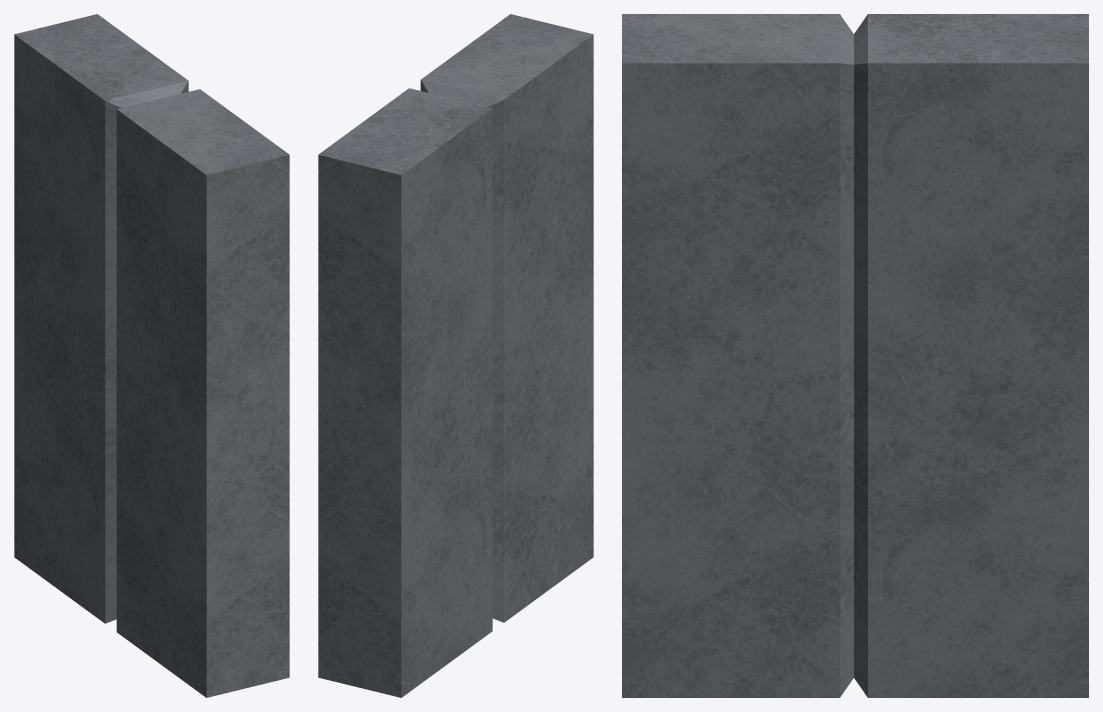
Rendered from wall_b.fbx.
3 views of the same model, side by side, from view 1: azimuth 30°, elevation 25°; view 2: azimuth 150°, elevation 25°; view 3: azimuth 270°, elevation 25° (orthographic). The views are drawn at different scales.
Parts seen in each view (by area): view 1: Cube; view 2: Cube; view 3: Cube.
Boxes of the visible parts, <box> form: Cube: <box>14,14,289,697</box>; Cube: <box>318,14,593,697</box>; Cube: <box>622,14,1088,697</box>.
Bounding box in the file's own units: 1 × 6 × 4.
